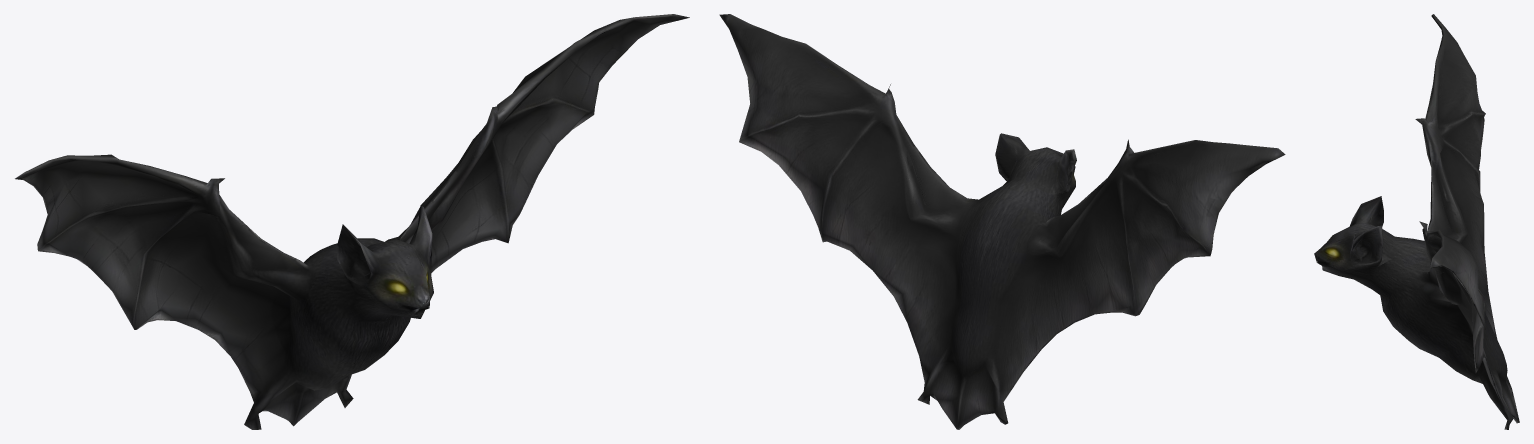
Rendered from bat.glb.
3 renders of one model, left to right at view 1: azimuth 30°, elevation 25°; view 2: azimuth 150°, elevation 25°; view 3: azimuth 270°, elevation 25°, orthographic. The views are drawn at different scales.
Size of the model in its own units: 1.88 by 0.9954 by 0.6445.
Materials: 1 (1 with a texture image).
